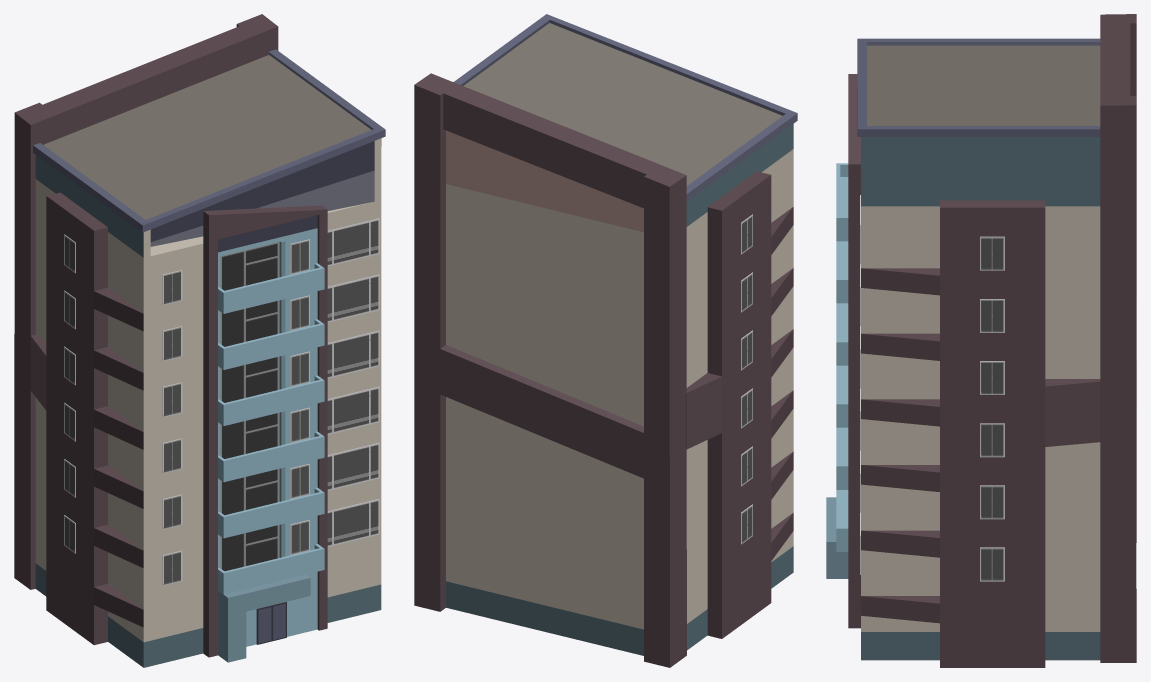
File: building08_color03.fbx
3 renders of one model, left to right at view 1: azimuth 30°, elevation 25°; view 2: azimuth 150°, elevation 25°; view 3: azimuth 270°, elevation 25°, orthographic. The views are drawn at different scales.
Visible parts, largest first — view 1: building08_color03; view 2: building08_color03; view 3: building08_color03.
Boxes of the visible parts, bbox=[...] form: building08_color03: bbox=[14, 14, 385, 667]; building08_color03: bbox=[414, 14, 797, 667]; building08_color03: bbox=[826, 14, 1136, 667].
Bounding box in the file's own units: 1685 × 3038 × 1533.
